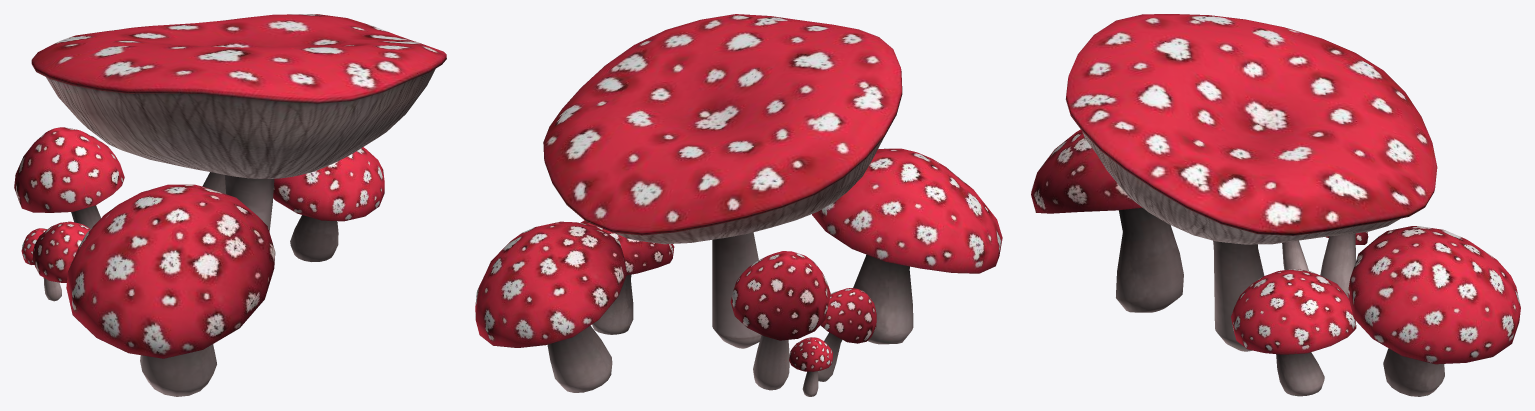
Rendered from Red_shrooms_04.fbx.
3 views of the same model, side by side, from view 1: azimuth 30°, elevation 25°; view 2: azimuth 150°, elevation 25°; view 3: azimuth 270°, elevation 25° (orthographic). The views are drawn at different scales.
Parts seen in each view (by area): view 1: big_red_shroom1, Small_red_shroom3, tiny_red_shroom5, Small_red_shroom2, tiny_red_shroom6, tiny_red_shroom7; view 2: big_red_shroom1, Small_red_shroom3, Small_red_shroom1, tiny_red_shroom5, Small_red_shroom2, tiny_red_shroom6, tiny_red_shroom7; view 3: big_red_shroom1, Small_red_shroom1, Small_red_shroom3, Small_red_shroom2, tiny_red_shroom5, tiny_red_shroom6.
Part boxes in pixels (x1=…): big_red_shroom1: x1=31, y1=14, x2=446, y2=231; Small_red_shroom3: x1=66, y1=184, x2=275, y2=396; tiny_red_shroom5: x1=14, y1=127, x2=124, y2=228; Small_red_shroom2: x1=273, y1=147, x2=384, y2=261; tiny_red_shroom6: x1=32, y1=221, x2=90, y2=282; tiny_red_shroom7: x1=21, y1=228, x2=61, y2=301; big_red_shroom1: x1=543, y1=14, x2=902, y2=348; Small_red_shroom3: x1=812, y1=148, x2=1002, y2=344; Small_red_shroom1: x1=475, y1=221, x2=627, y2=392; tiny_red_shroom5: x1=730, y1=251, x2=830, y2=390; Small_red_shroom2: x1=580, y1=220, x2=674, y2=334; tiny_red_shroom6: x1=818, y1=288, x2=876, y2=381; tiny_red_shroom7: x1=789, y1=337, x2=833, y2=396; big_red_shroom1: x1=1065, y1=14, x2=1437, y2=351; Small_red_shroom1: x1=1347, y1=226, x2=1520, y2=396; Small_red_shroom3: x1=1031, y1=129, x2=1183, y2=312; Small_red_shroom2: x1=1231, y1=269, x2=1356, y2=396; tiny_red_shroom5: x1=1320, y1=233, x2=1355, y2=297; tiny_red_shroom6: x1=1282, y1=240, x2=1308, y2=270.
Size of the model in its own units: 50.29 by 37.5 by 56.4.
